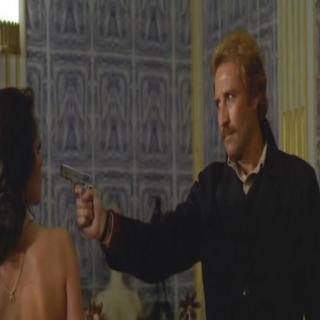gun: (54, 156, 104, 242)
